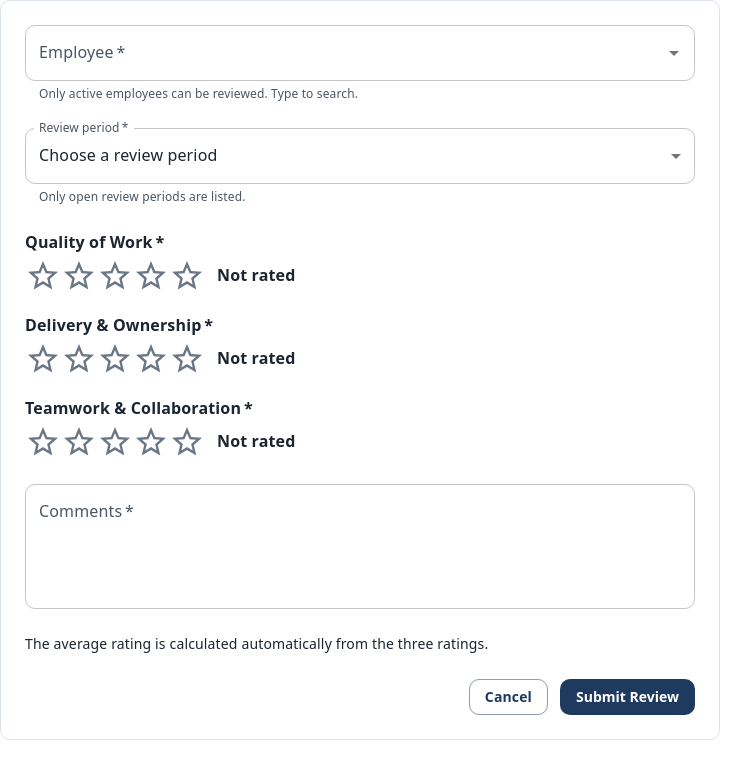
it: SubmitReviewForm: validation messages › removes a message as soon as the value is fixed
This screenshot has width=737, height=768.
Click the text box labelled "Comments *" at (360, 546), box [39,500,681,592]
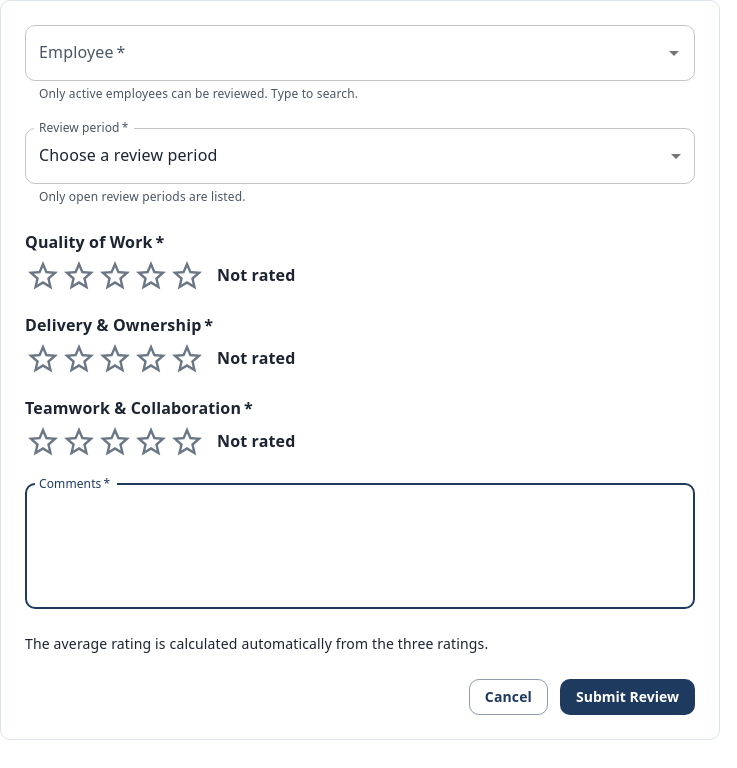
Press Tab
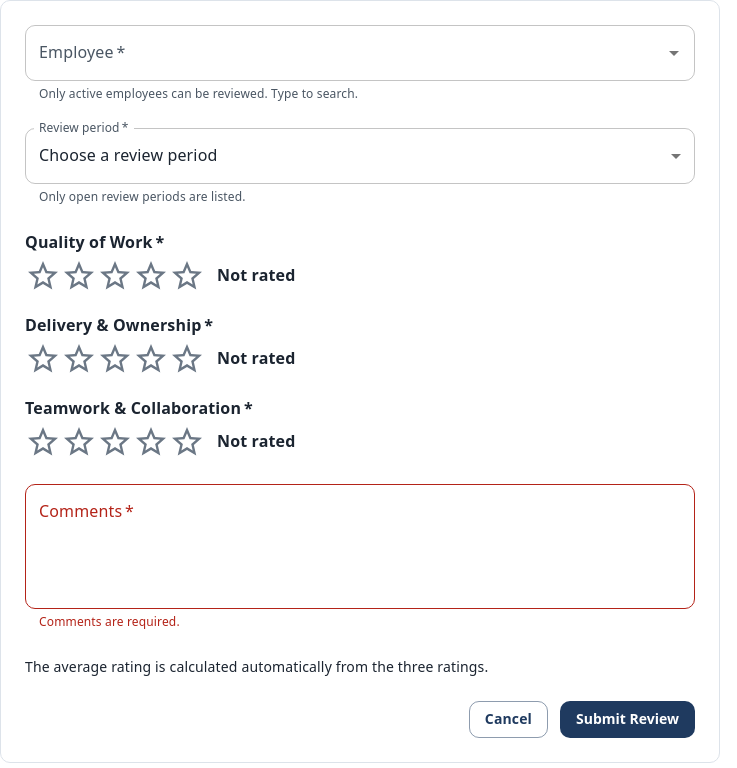
Expected: the text "Comments are required." is shown, [39,613,180,630]
Type "ok" into the text box labelled "Comments *" at (360, 546), box [39,500,681,592]
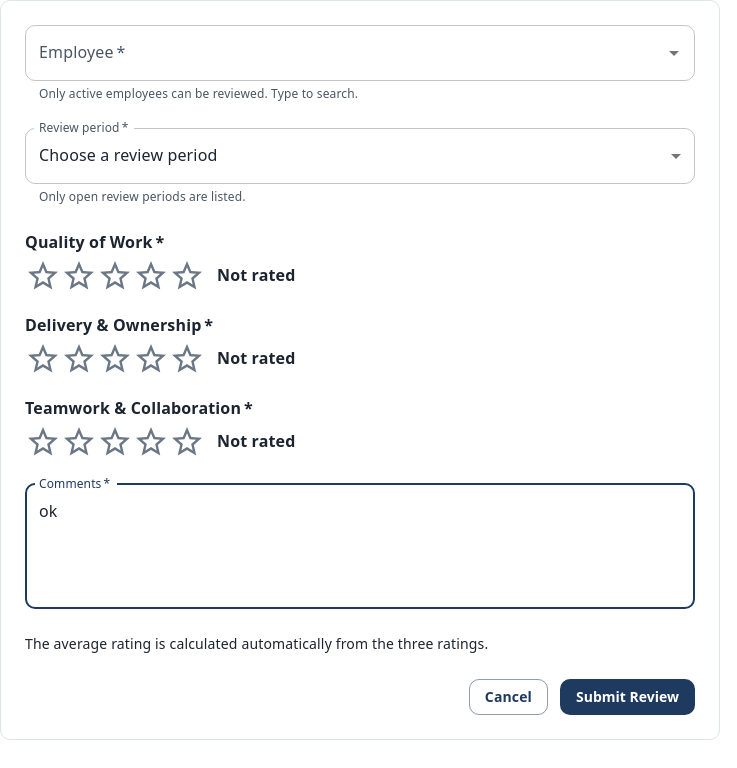
Expected: the text "Comments are required." is gone
